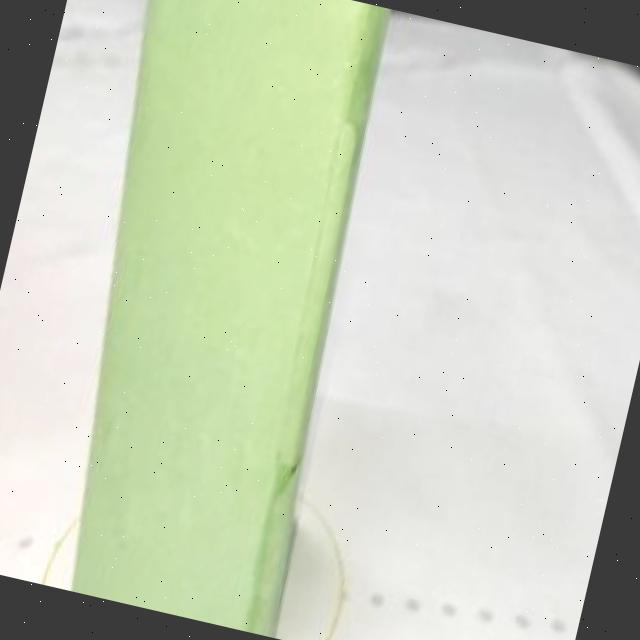greenbox: (4, 0, 417, 638)
